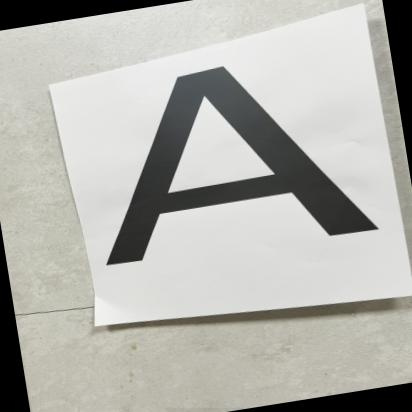seat: (61, 41, 386, 292)
